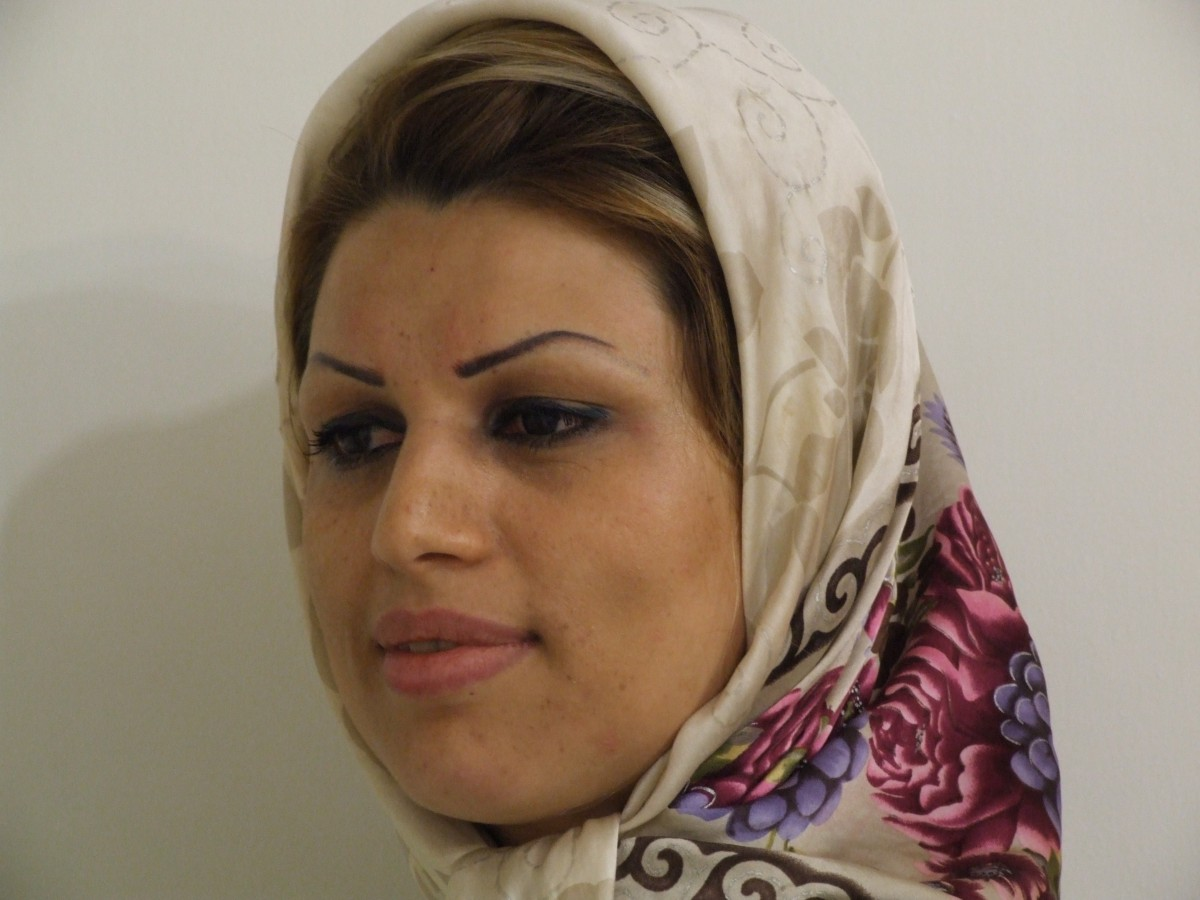neo: (386, 319, 429, 352), (554, 667, 585, 694), (693, 481, 719, 510), (553, 735, 576, 761), (612, 675, 633, 701), (419, 261, 444, 281), (470, 310, 495, 329), (462, 685, 482, 706), (554, 616, 572, 635), (333, 547, 351, 566), (386, 376, 404, 392)
occhiaia: (483, 440, 639, 497), (306, 456, 400, 509)
